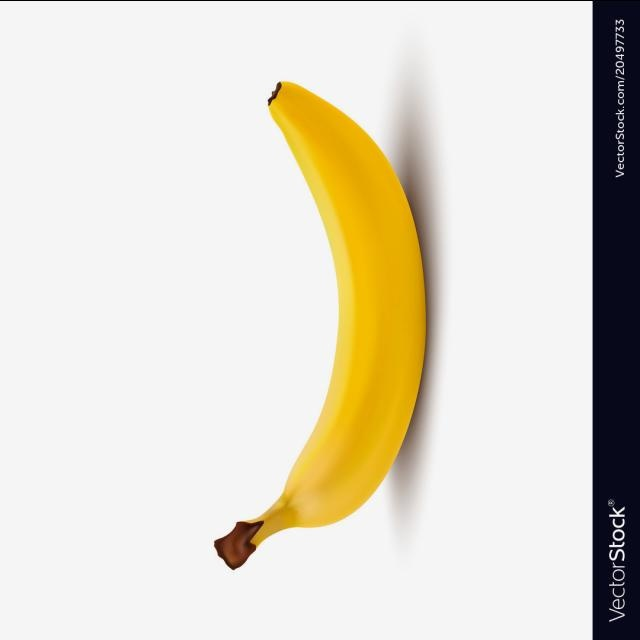agrume: (211, 79, 430, 561)
